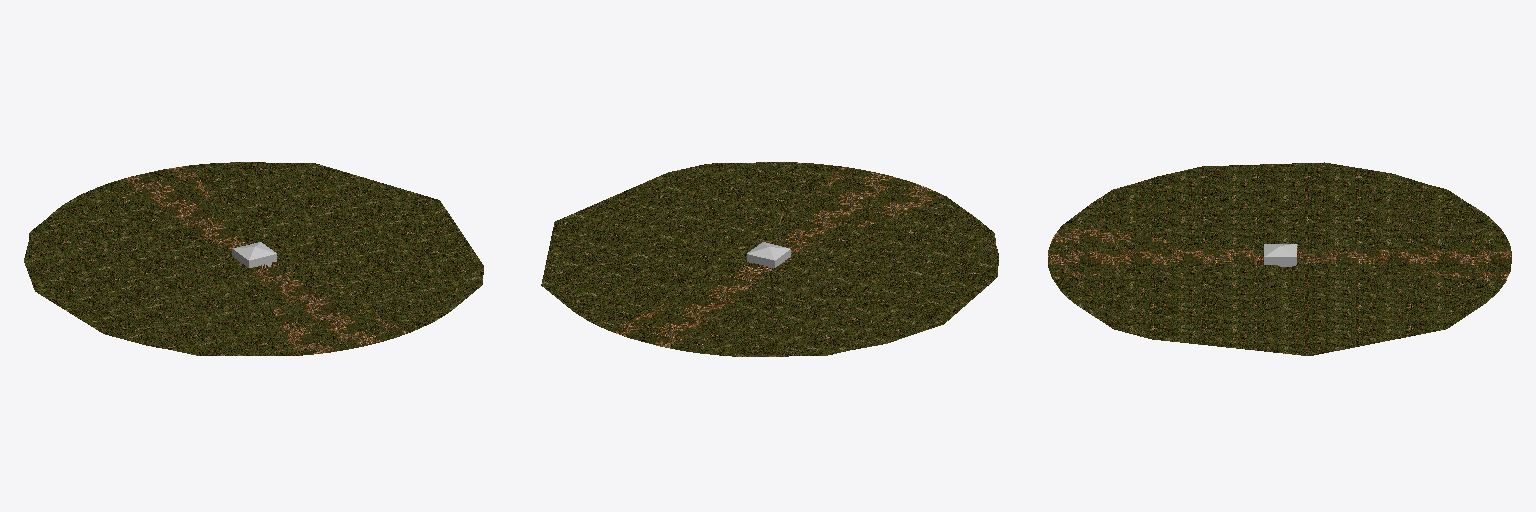
3 renders of one model, left to right at view 1: azimuth 30°, elevation 25°; view 2: azimuth 150°, elevation 25°; view 3: azimuth 270°, elevation 25°, orthographic.
Visible parts, largest first — view 1: GrandCanyon, GrandCanyonCollisionBox; view 2: GrandCanyon, GrandCanyonCollisionBox; view 3: GrandCanyon, GrandCanyonCollisionBox.
Part boxes in pixels (x1,y1,x2,y2): GrandCanyon: (24, 162, 483, 355); GrandCanyonCollisionBox: (232, 242, 276, 267); GrandCanyon: (541, 162, 998, 356); GrandCanyonCollisionBox: (747, 242, 790, 270); GrandCanyon: (1048, 162, 1511, 355); GrandCanyonCollisionBox: (1264, 244, 1296, 266).
Size of the model in its own units: 72586 by 3233 by 73530.
7 materials, 4 textured.